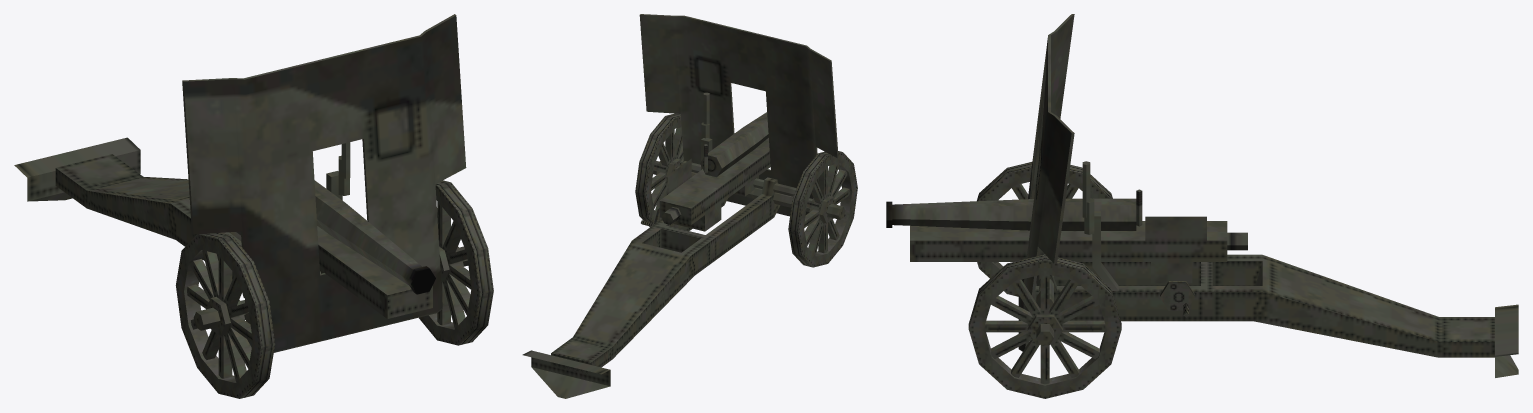
The model's file is ITACannone65.dae.
3 views of the same model, side by side, from view 1: azimuth 30°, elevation 25°; view 2: azimuth 150°, elevation 25°; view 3: azimuth 270°, elevation 25° (orthographic). The views are drawn at different scales.
Visible parts, largest first — view 1: carriage, wheels, sleeve, barrel; view 2: carriage, wheels, sleeve, barrel; view 3: carriage, wheels, sleeve, barrel.
Boxes of the visible parts, <box> form: carriage: <box>14,14,466,352</box>; wheels: <box>175,180,493,398</box>; sleeve: <box>236,226,432,318</box>; barrel: <box>314,180,435,294</box>; carriage: <box>522,14,838,398</box>; wheels: <box>635,113,857,267</box>; sleeve: <box>659,138,770,231</box>; barrel: <box>700,112,768,177</box>; carriage: <box>1018,14,1518,377</box>; wheels: <box>968,162,1121,398</box>; sleeve: <box>910,216,1247,283</box>; barrel: <box>886,189,1142,230</box>.
Size of the model in its own units: 8.11 by 18.16 by 9.46.
